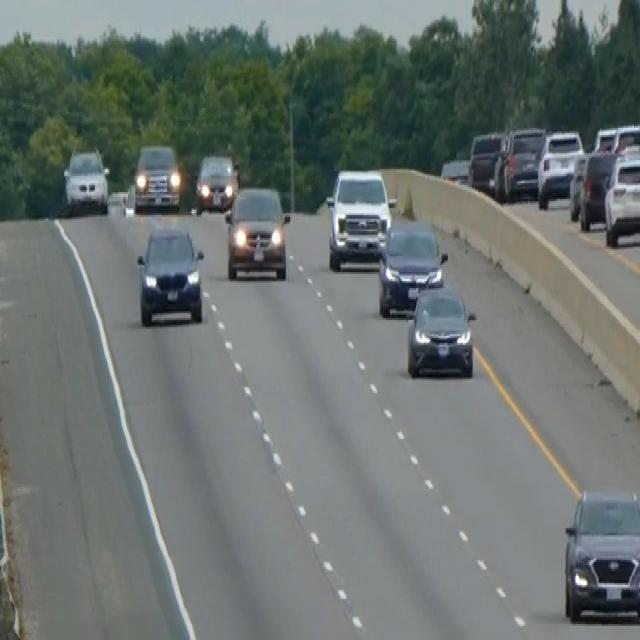car: (562, 484, 639, 622), (135, 222, 205, 327), (376, 214, 447, 316), (405, 281, 476, 379), (493, 124, 545, 201), (536, 126, 584, 208), (603, 151, 639, 247), (578, 148, 620, 230), (62, 146, 109, 213), (194, 151, 239, 213), (467, 128, 504, 194), (568, 149, 589, 219), (611, 121, 639, 156), (440, 155, 470, 185), (592, 124, 617, 153)
jeep: (324, 166, 395, 270)
minivan: (223, 183, 291, 281), (132, 140, 182, 213)
